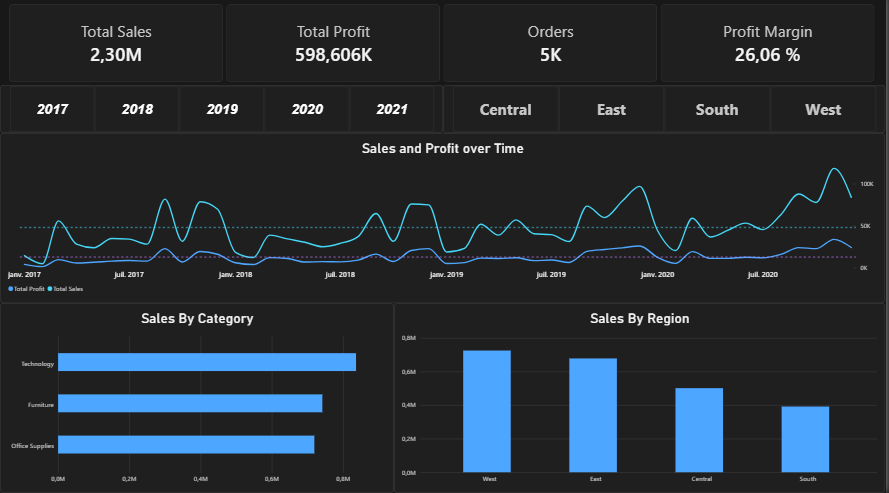

This screenshot's page, from the dashboard's own definition file:
{"tool":"powerbi","page":{"name":"Sales Overview","canvas":[1920,1080],"ordinal":0},"visuals":[{"type":"cardVisual","fields":{"Data":["Region.Total Sales","Region.Total Profit","Region.Orders","Region.Profit Margin"]},"box":[0,0,1919.3,208.2],"z":0},{"type":"lineChart","title":"Sales and Profit over Time","fields":{"Category":["Date.Date.Variation.Hiérarchie de dates.Année","Date.Date.Variation.Hiérarchie de dates.Mois"],"Y2":["Region.Total Profit","Region.Total Sales"]},"box":[0,299.3,1919.3,368.7],"z":1},{"type":"barChart","title":"Sales By Category ","fields":{"Category":["Product.Category"],"Y":["Region.Total Sales"]},"box":[0,668,854.5,412],"z":2},{"type":"columnChart","title":"Sales By Region","fields":{"Category":["Region.Region"],"Y":["Region.Total Sales"]},"box":[854.5,668,1064.8,412],"z":3},{"type":"slicer","fields":{"Values":["Date.Year"]},"box":[0,195.2,960.7,104.1],"z":4},{"type":"slicer","fields":{"Values":["Region.Region"]},"box":[960.7,195.2,958.6,104.1],"z":5}]}

Visuals, with their boxes in screenshot pixels (x1, y1, x2, y2), scaled from the page's 1920x1080 canvas onto the 889x493 screenshot:
cardVisual - Region.Total Sales x Region.Total Profit: rect(0, 0, 888, 95)
"Sales and Profit over Time" lineChart: rect(0, 137, 888, 305)
"Sales By Category " barChart: rect(0, 305, 396, 492)
"Sales By Region" columnChart: rect(396, 305, 888, 492)
slicer - Date.Year: rect(0, 89, 445, 137)
slicer - Region.Region: rect(445, 89, 888, 137)
